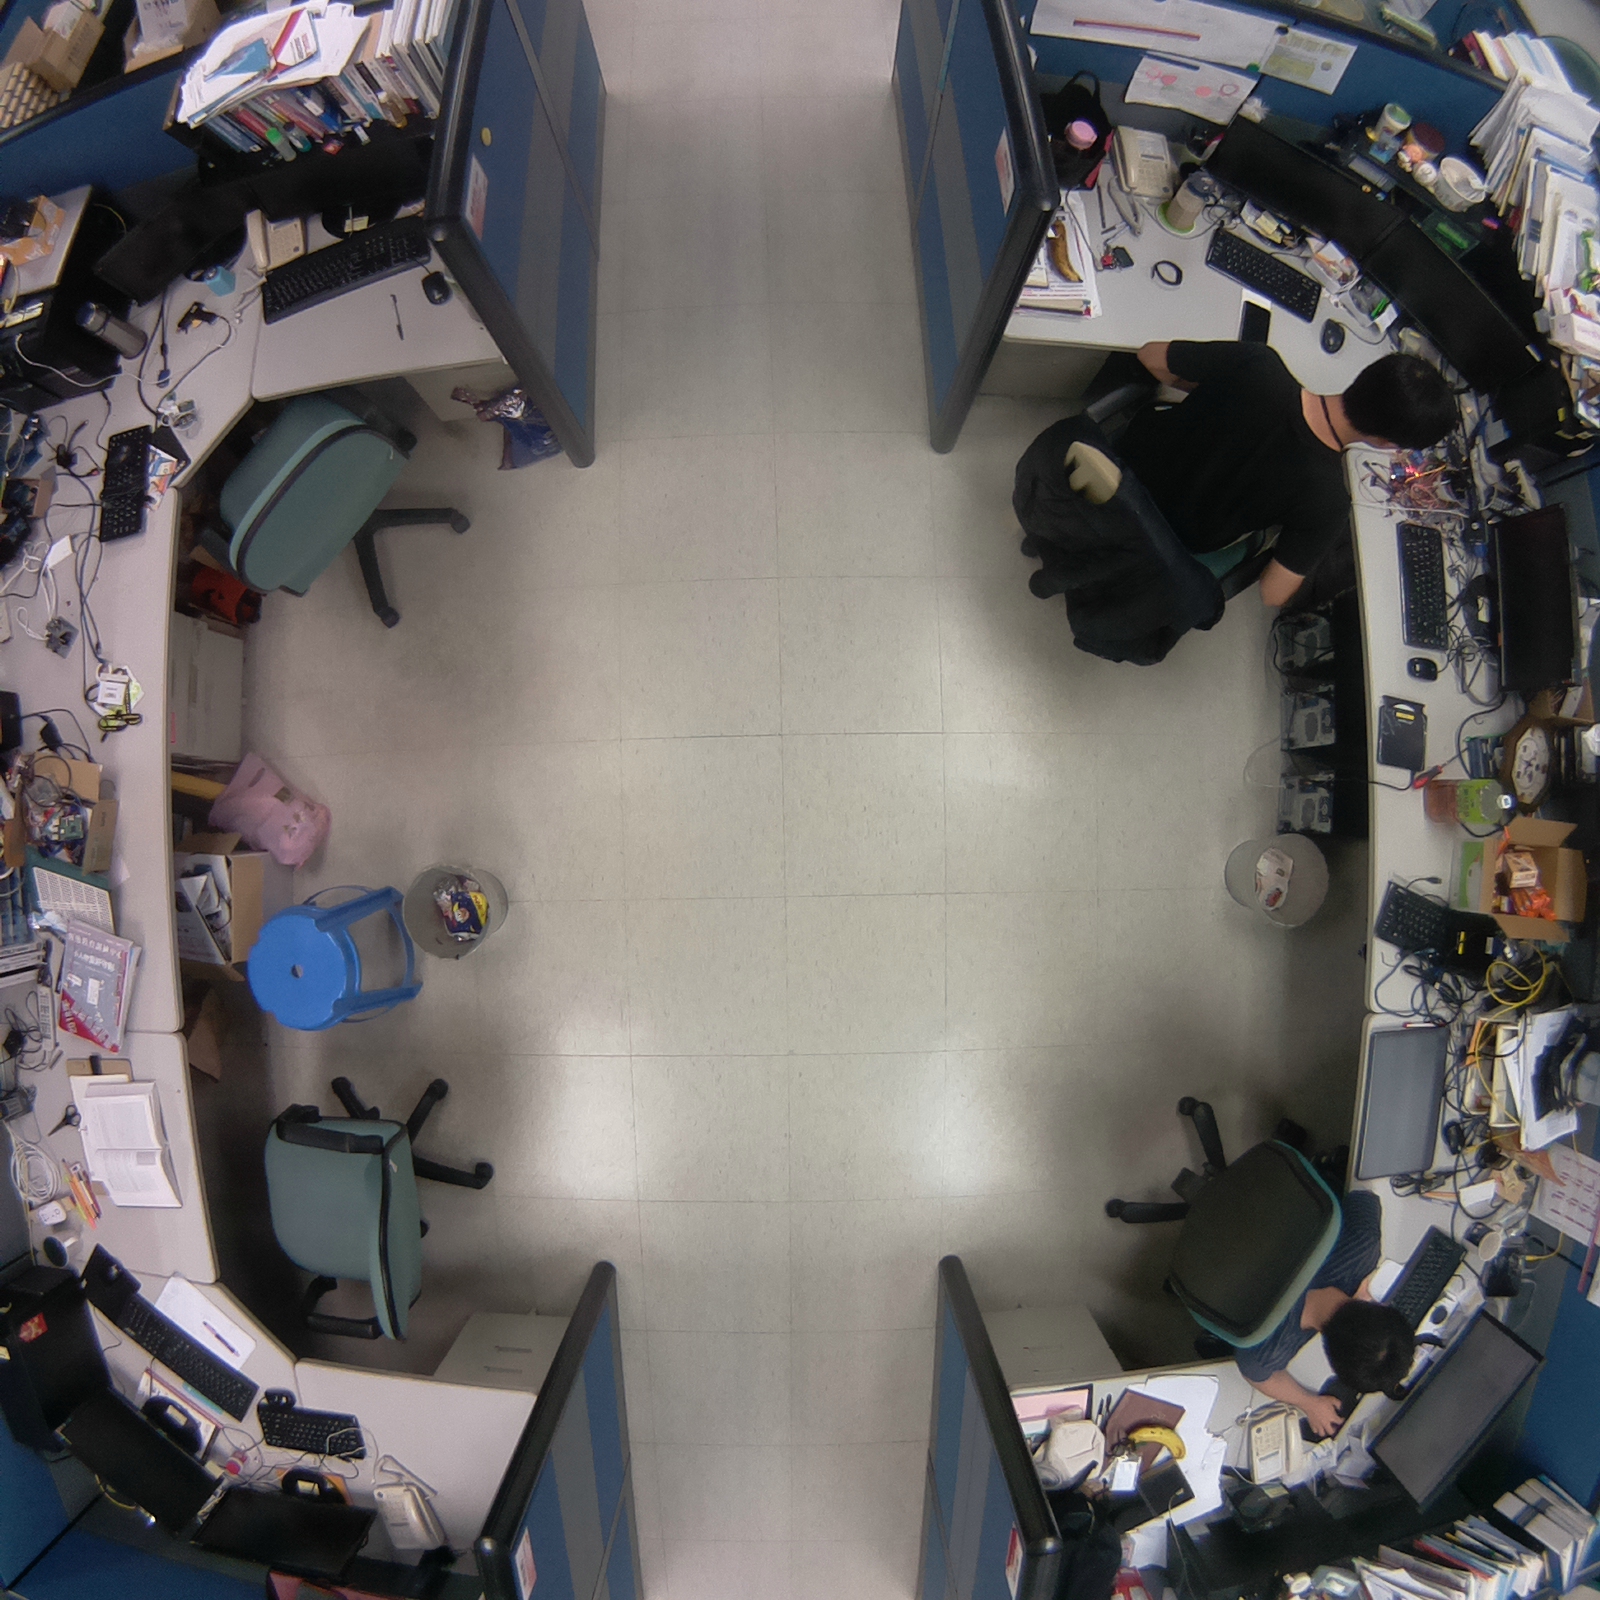chair: (229, 1047, 512, 1358), (196, 381, 481, 650)
head: (1334, 345, 1468, 459), (1317, 1294, 1421, 1398)
sitting: (996, 309, 1478, 696), (1073, 1075, 1428, 1435)
